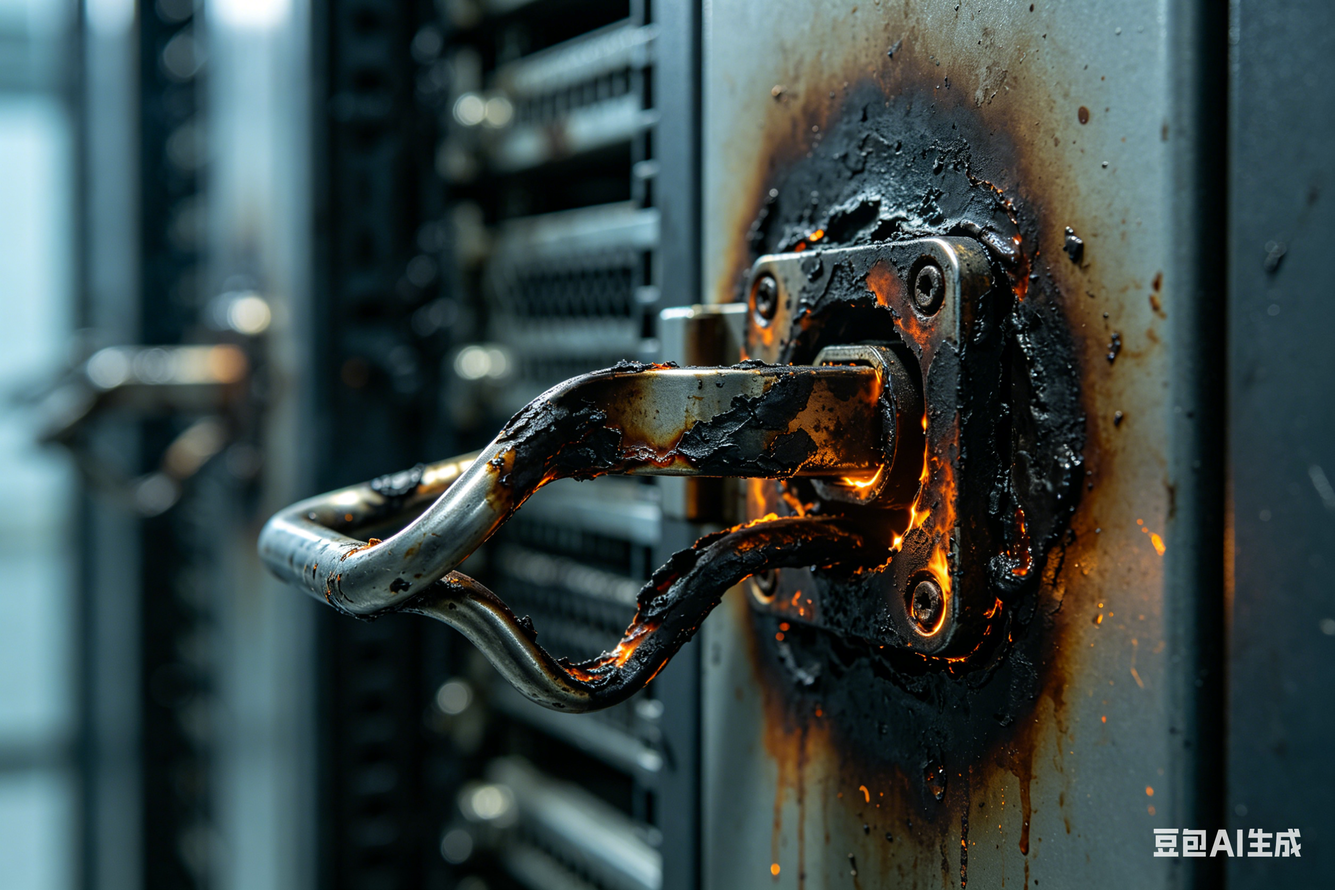BadLock: (475, 350, 970, 669)
